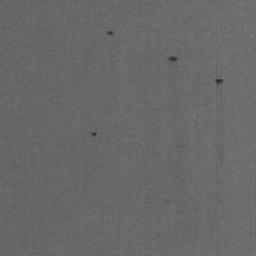Inclusion: (168, 56, 178, 62), (215, 78, 223, 84)
